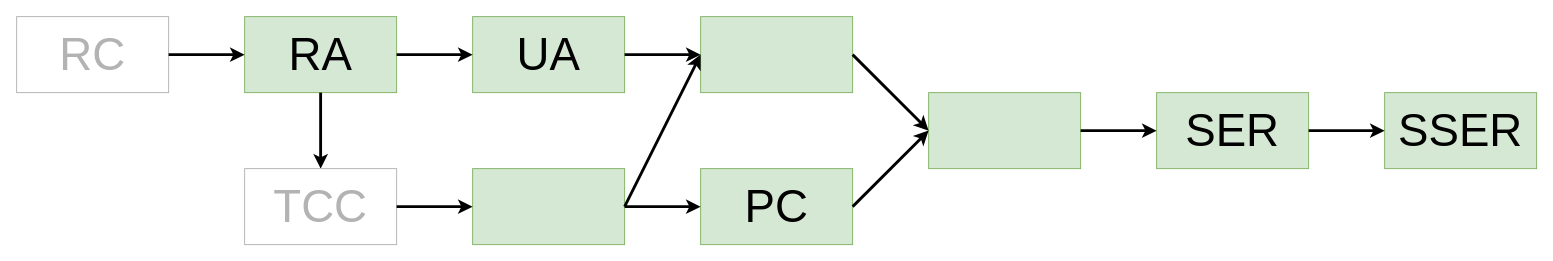
This 1553x261 diagram has some shape labels left out. The shapes that lost their labels are listed below. From the top down, each one's centre as x and y in pixels, then its label:
At [776,54]: "PSI".
At [1004,130]: "SI".
At [548,206]: "TCCv".
